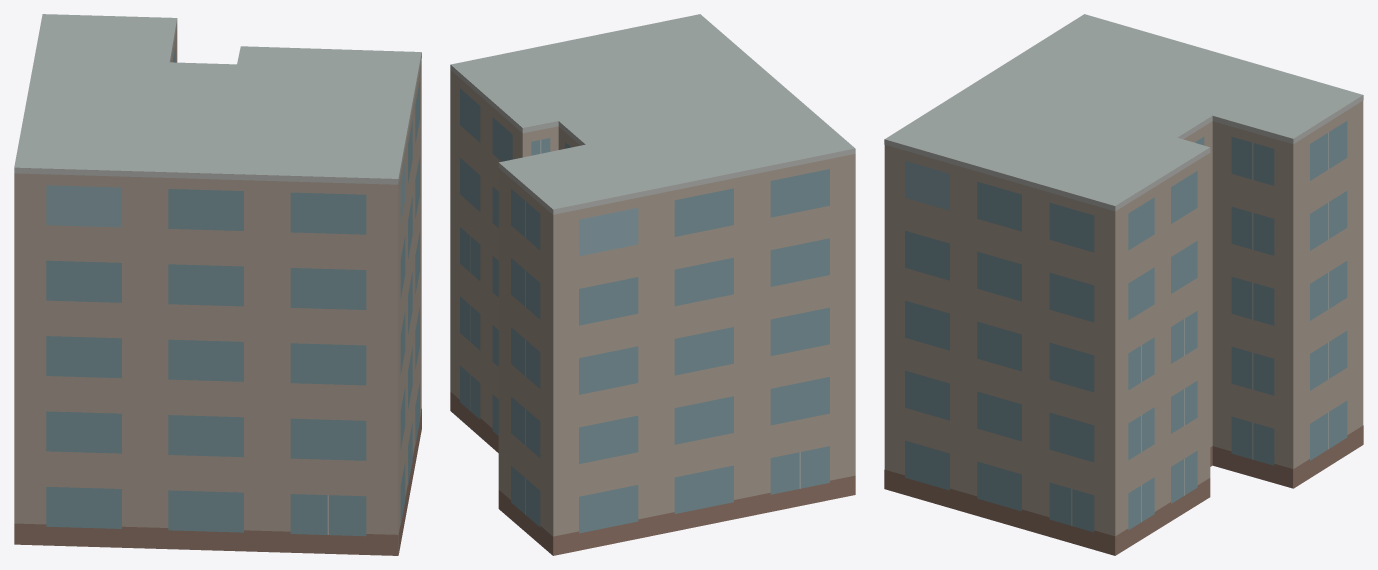
The model's file is survey-upis-32966450.glb.
3 renders of one model, left to right at view 1: azimuth 30°, elevation 25°; view 2: azimuth 150°, elevation 25°; view 3: azimuth 270°, elevation 25°, orthographic. The views are drawn at different scales.
Parts seen in each view (by area): view 1: survey-upis-32966450.tmp; view 2: survey-upis-32966450.tmp; view 3: survey-upis-32966450.tmp.
Boxes of the visible parts, bbox=[...] form: survey-upis-32966450.tmp: bbox=[14, 14, 421, 555]; survey-upis-32966450.tmp: bbox=[450, 14, 855, 555]; survey-upis-32966450.tmp: bbox=[884, 14, 1363, 555].
Bounding box in the file's own units: 18.85 × 16 × 19.86.
